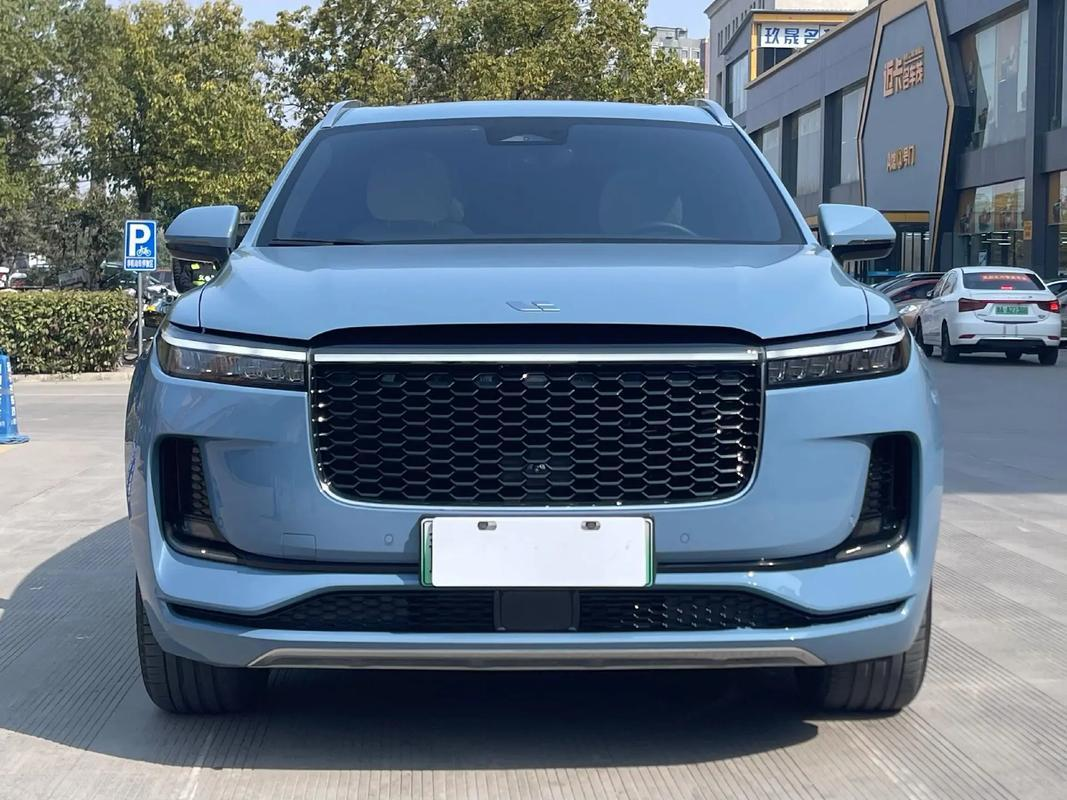Li Auto: (507, 300, 561, 313)
